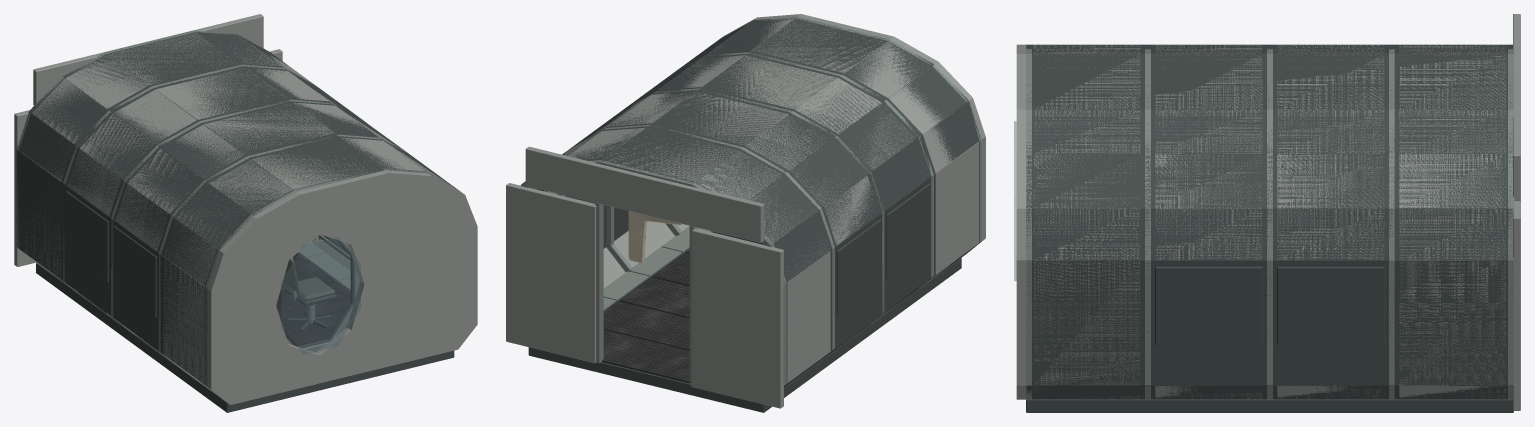
The model's file is radio_room_v2.glb.
The picture shows the model from 3 angles, left to right: view 1: azimuth 30°, elevation 25°; view 2: azimuth 150°, elevation 25°; view 3: azimuth 270°, elevation 25°; orthographic projection. The views are drawn at different scales.
Visible parts, largest first — view 1: Runtime wall_bridge, Runtime structural_graphite, Runtime viewport_glass, Runtime brushed_edges, Runtime deck_plate, Runtime seat_olive_vinyl; view 2: Runtime wall_bridge, Runtime structural_graphite, Runtime brushed_edges, Runtime deck_plate, Runtime ivory_aged; view 3: Runtime structural_graphite, Runtime wall_bridge, Runtime brushed_edges, Runtime viewport_glass.
Part boxes in pixels (x1,y1,x2,y2): Runtime wall_bridge: (14,14,477,404); Runtime structural_graphite: (16,31,459,412); Runtime viewport_glass: (281,237,360,354); Runtime brushed_edges: (16,30,427,399); Runtime deck_plate: (276,253,350,346); Runtime seat_olive_vinyl: (283,259,335,300); Runtime wall_bridge: (506,14,985,408); Runtime structural_graphite: (523,17,981,412); Runtime brushed_edges: (520,16,981,385); Runtime deck_plate: (602,231,763,383); Runtime ivory_aged: (628,211,681,263); Runtime structural_graphite: (1026,44,1513,412); Runtime wall_bridge: (1016,14,1520,410); Runtime brushed_edges: (1026,45,1514,399); Runtime viewport_glass: (1014,121,1016,280).
Bounding box in the file's own units: 3.9 × 2.83 × 4.99.
Materials: 14 (2 with a texture image).
